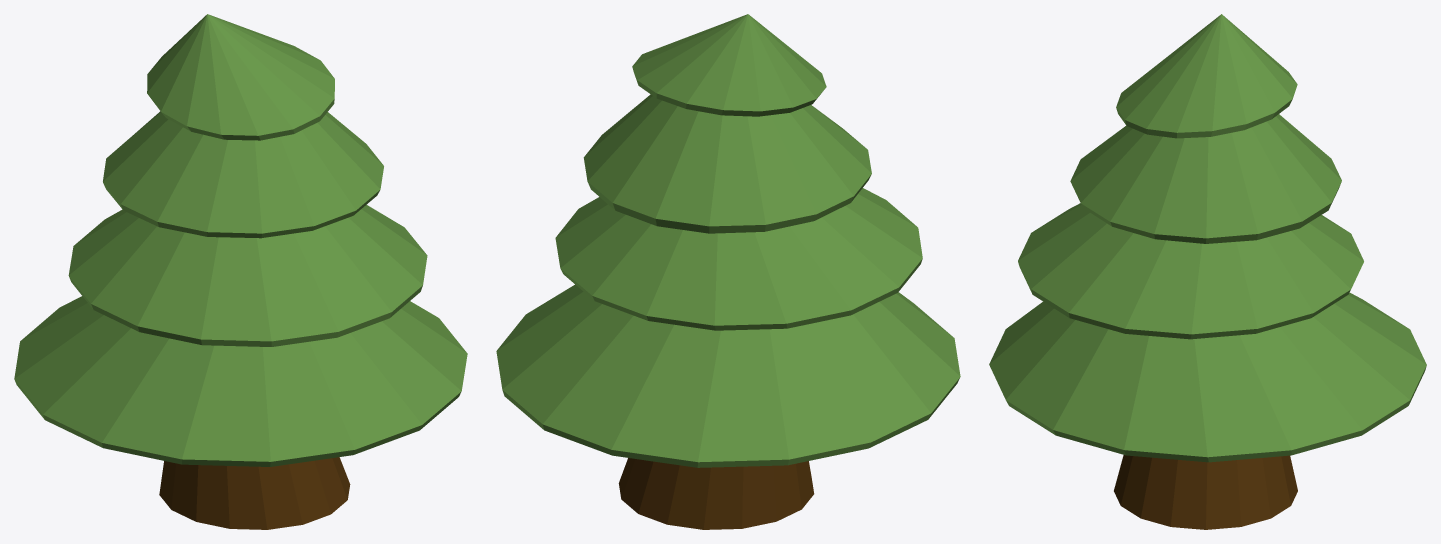
The model's file is sapin.fbx.
3 renders of one model, left to right at view 1: azimuth 30°, elevation 25°; view 2: azimuth 150°, elevation 25°; view 3: azimuth 270°, elevation 25°, orthographic. The views are drawn at different scales.
Visible parts, largest first — view 1: Cylinder; view 2: Cylinder; view 3: Cylinder.
Part boxes in pixels (x1=…): Cylinder: x1=14, y1=14, x2=467, y2=529; Cylinder: x1=496, y1=14, x2=960, y2=529; Cylinder: x1=989, y1=14, x2=1426, y2=529.
Size of the model in its own units: 538 by 538 by 622.
